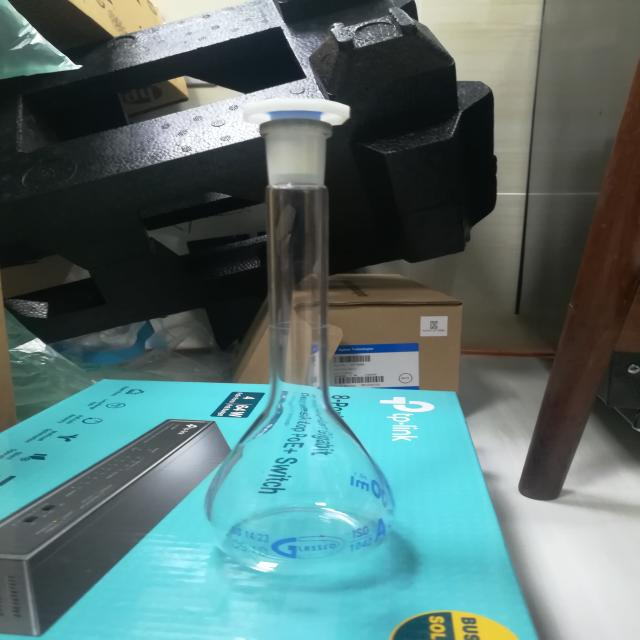Volumetric_Flask: (183, 64, 428, 606)
